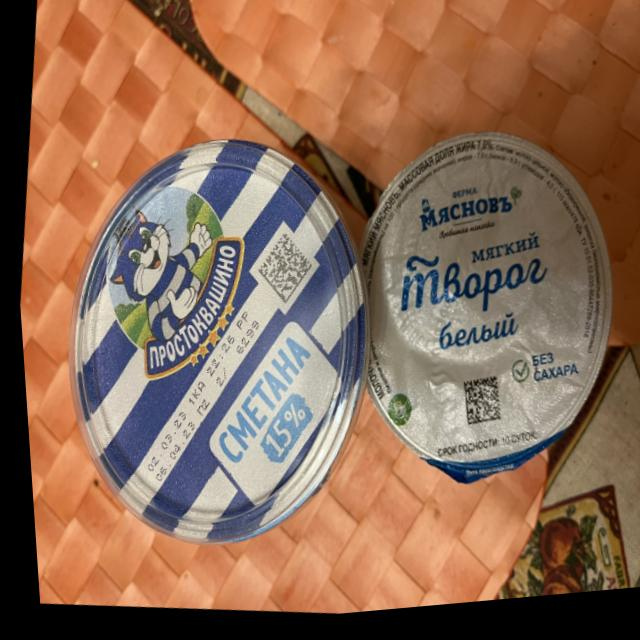datamatrix: (248, 233, 314, 313), (452, 380, 501, 438)
